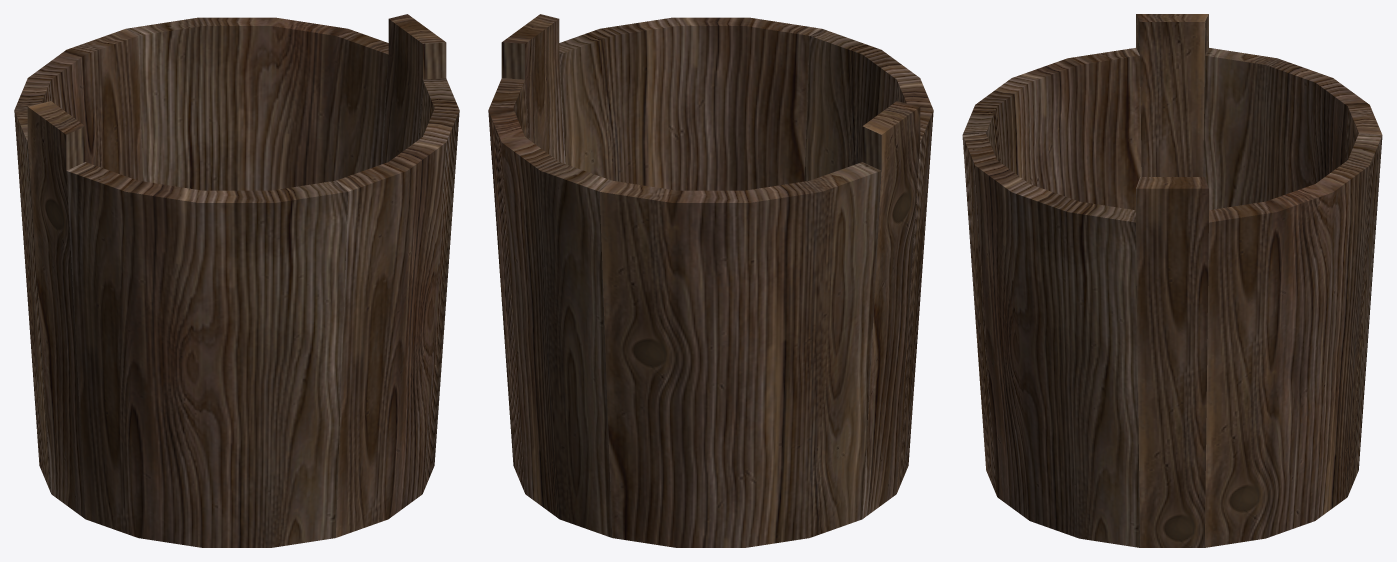
The model's file is storage_bucket_01.fbx.
The picture shows the model from 3 angles, left to right: view 1: azimuth 30°, elevation 25°; view 2: azimuth 150°, elevation 25°; view 3: azimuth 270°, elevation 25°; orthographic projection. The views are drawn at different scales.
Visible parts, largest first — view 1: storage_bucket_01; view 2: storage_bucket_01; view 3: storage_bucket_01.
Part boxes in pixels (box(x1,y1,x2,y2)): storage_bucket_01: box(14, 14, 459, 547); storage_bucket_01: box(488, 14, 933, 547); storage_bucket_01: box(962, 14, 1382, 547).
Bounding box in the file's own units: 38.52 × 38.11 × 39.11.
